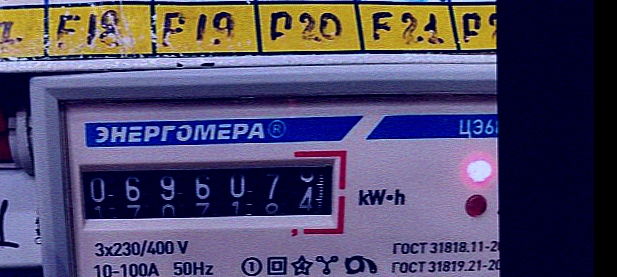0: (85, 175, 105, 205), (226, 170, 245, 200)
4: (293, 185, 313, 213)
6: (119, 174, 141, 204), (191, 173, 210, 201)
7: (261, 171, 278, 201)
9: (156, 174, 174, 203)
screen: (61, 145, 347, 239)
